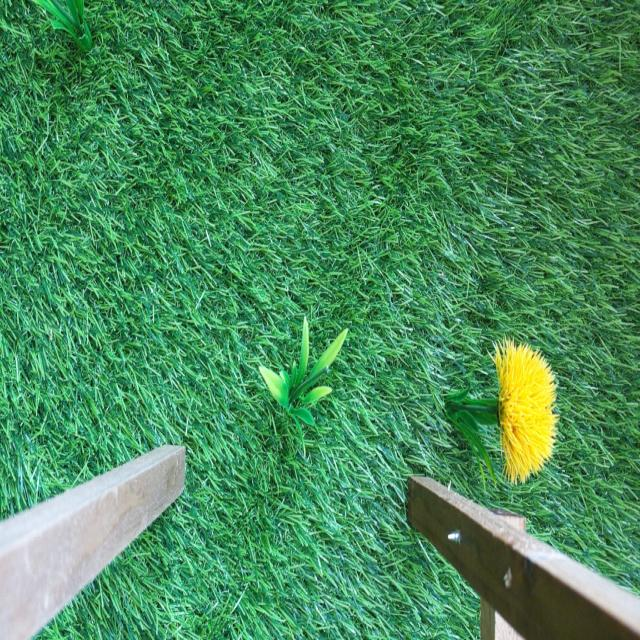base: (259, 317, 344, 433), (444, 387, 498, 490)
flower: (492, 335, 555, 479)
